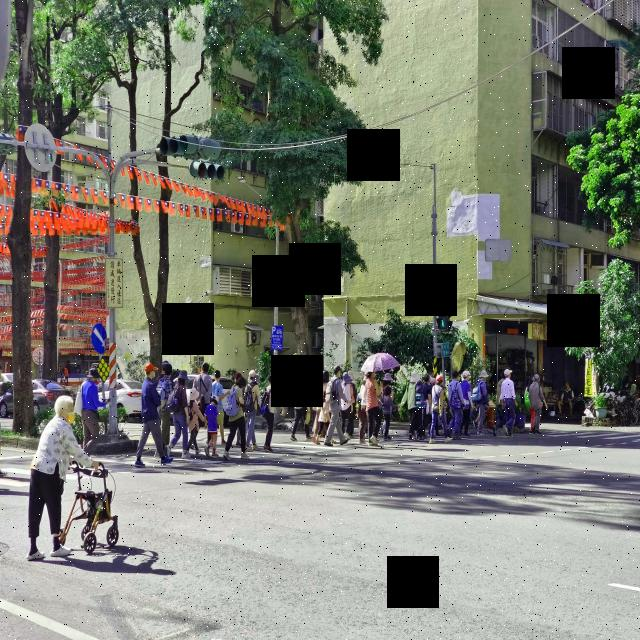person: (28, 395, 99, 559), (135, 363, 172, 468), (81, 368, 108, 453), (224, 372, 249, 459), (168, 370, 190, 460), (324, 367, 348, 447), (261, 375, 284, 453), (158, 360, 174, 452), (400, 372, 421, 439), (430, 375, 450, 445), (291, 370, 310, 442), (244, 370, 261, 450), (312, 370, 330, 445), (211, 370, 229, 443), (365, 372, 381, 447), (188, 387, 205, 455), (448, 372, 465, 440), (529, 373, 548, 432), (500, 368, 516, 437), (472, 370, 489, 432), (415, 373, 431, 438), (380, 383, 398, 440), (341, 372, 355, 440), (194, 362, 212, 413), (204, 397, 219, 458), (356, 375, 368, 445), (460, 370, 472, 437)
zebra crossing: (3, 434, 443, 489)
